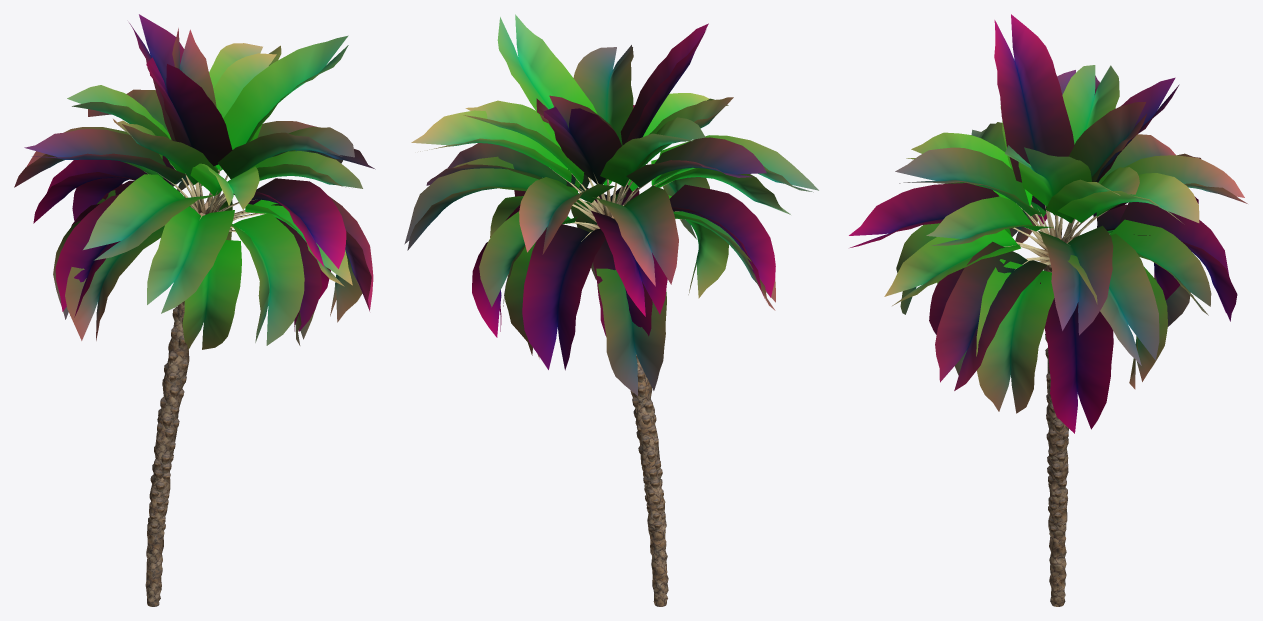
The model's file is palm.fbx.
3 renders of one model, left to right at view 1: azimuth 30°, elevation 25°; view 2: azimuth 150°, elevation 25°; view 3: azimuth 270°, elevation 25°, orthographic. The views are drawn at different scales.
Visible parts, largest first — view 1: Tree_1, Tree_0, Tree_2, Tree_3; view 2: Tree_1, Tree_0, Tree_2, Tree_3; view 3: Tree_1, Tree_0, Tree_2, Tree_3.
Part boxes in pixels (left/top/right/bottom): Tree_1: left=14, top=14, right=375, bottom=349; Tree_0: left=145, top=201, right=209, bottom=606; Tree_2: left=148, top=301, right=189, bottom=530; Tree_3: left=158, top=164, right=265, bottom=232; Tree_1: left=404, top=14, right=818, bottom=395; Tree_0: left=597, top=211, right=668, bottom=606; Tree_2: left=631, top=354, right=666, bottom=533; Tree_3: left=553, top=168, right=685, bottom=241; Tree_1: left=849, top=14, right=1247, bottom=433; Tree_0: left=1044, top=236, right=1068, bottom=606; Tree_2: left=1045, top=265, right=1068, bottom=534; Tree_3: left=1004, top=203, right=1106, bottom=269.
Size of the model in its own units: 362 by 577 by 362.
